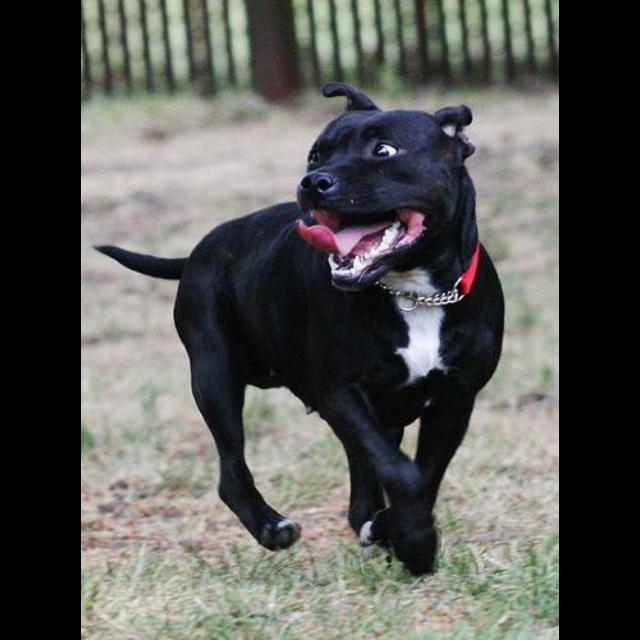staffford: (93, 82, 507, 578)
